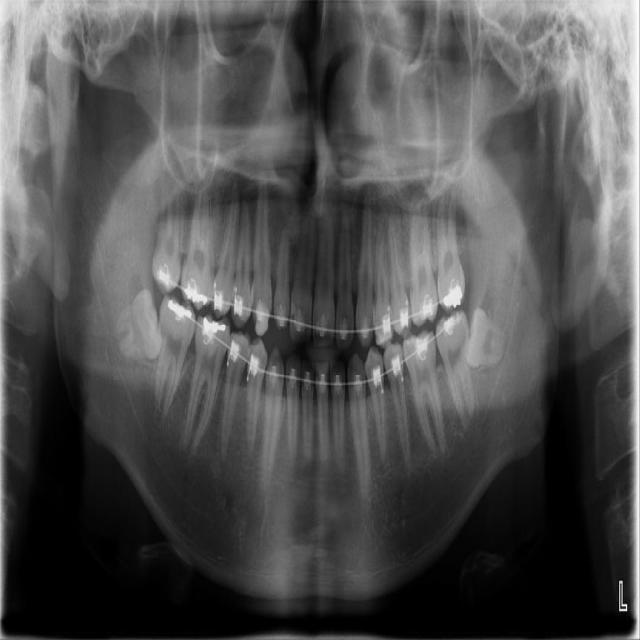52: (249, 278, 273, 335), (373, 301, 394, 347)
73: (587, 558, 594, 586)
BioHorizons Implant: (435, 185, 466, 316)
Biomet 3i Implant: (460, 306, 513, 375)
Blue Sky Bio Implant: (433, 309, 478, 430)
Caries: (150, 170, 189, 295)
Implant: (154, 296, 197, 421)
Keystone Dental Implant: (108, 287, 168, 366)
